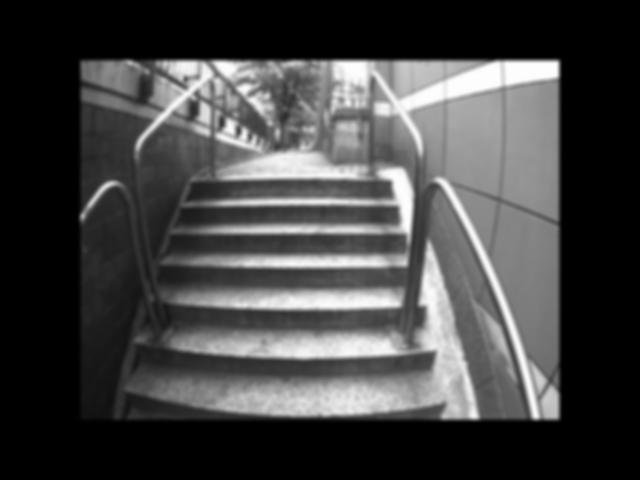Escaleras: (142, 175, 450, 419)
